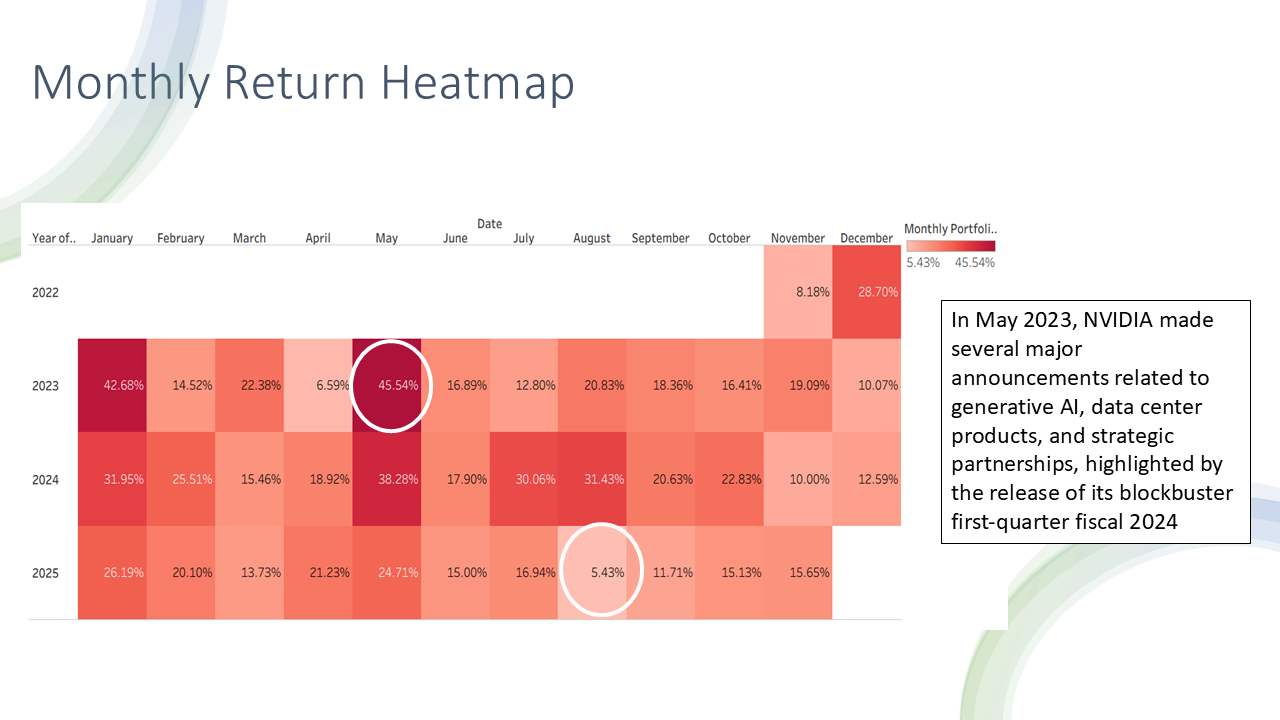

The page's visual inventory and layout, read from the dashboard file:
{"tool":"tableau","page":{"name":"Monthly Return","canvas":[1000,1000],"units":"permille","ordinal":6},"visuals":[{"type":"worksheet","title":"Heatmap","mark":"Square","rows":["Date"],"cols":["Date"],"box":[5,10.7,890.3,978.6]},{"type":"legend","title":"Heatmap","param":"[federated.0bg4tcu033rbq71aozf0k10hee3w].[sum:Calculation_501306942807838747:qk]","box":[895.3,10.7,99.8,108.6]}]}

Visuals, with their boxes on the dashboard's canvas, which has no fixed pixel size, in thousandths of its width and height (x1, y1, x2, y2). These are canvas units, not pixel positions in the 1280x720 screenshot, which may show the page scaled, cropped or inside an application window:
"Heatmap" worksheet (Square marks): {"left": 5, "top": 11, "right": 895, "bottom": 989}
"Heatmap" legend: {"left": 895, "top": 11, "right": 995, "bottom": 119}
